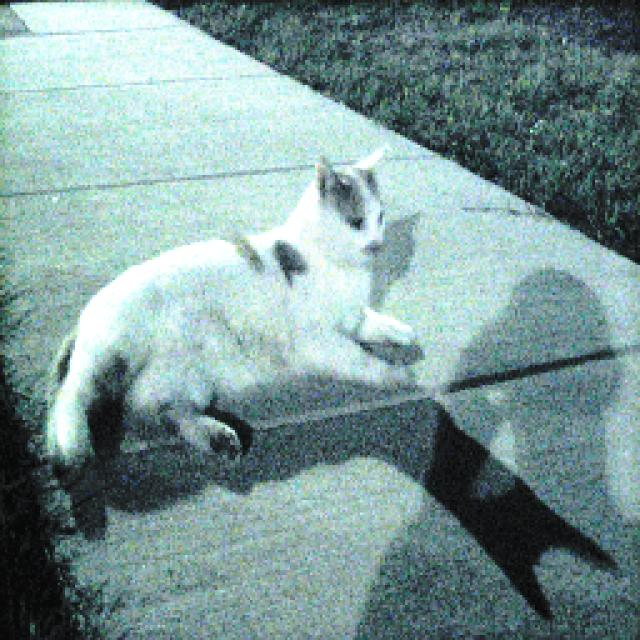cat: (37, 147, 424, 485)
